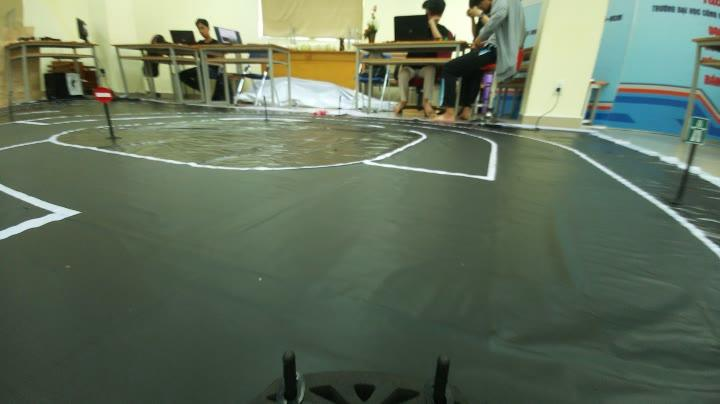highway_entry: (682, 114, 712, 147)
no_entry: (90, 85, 114, 104)
